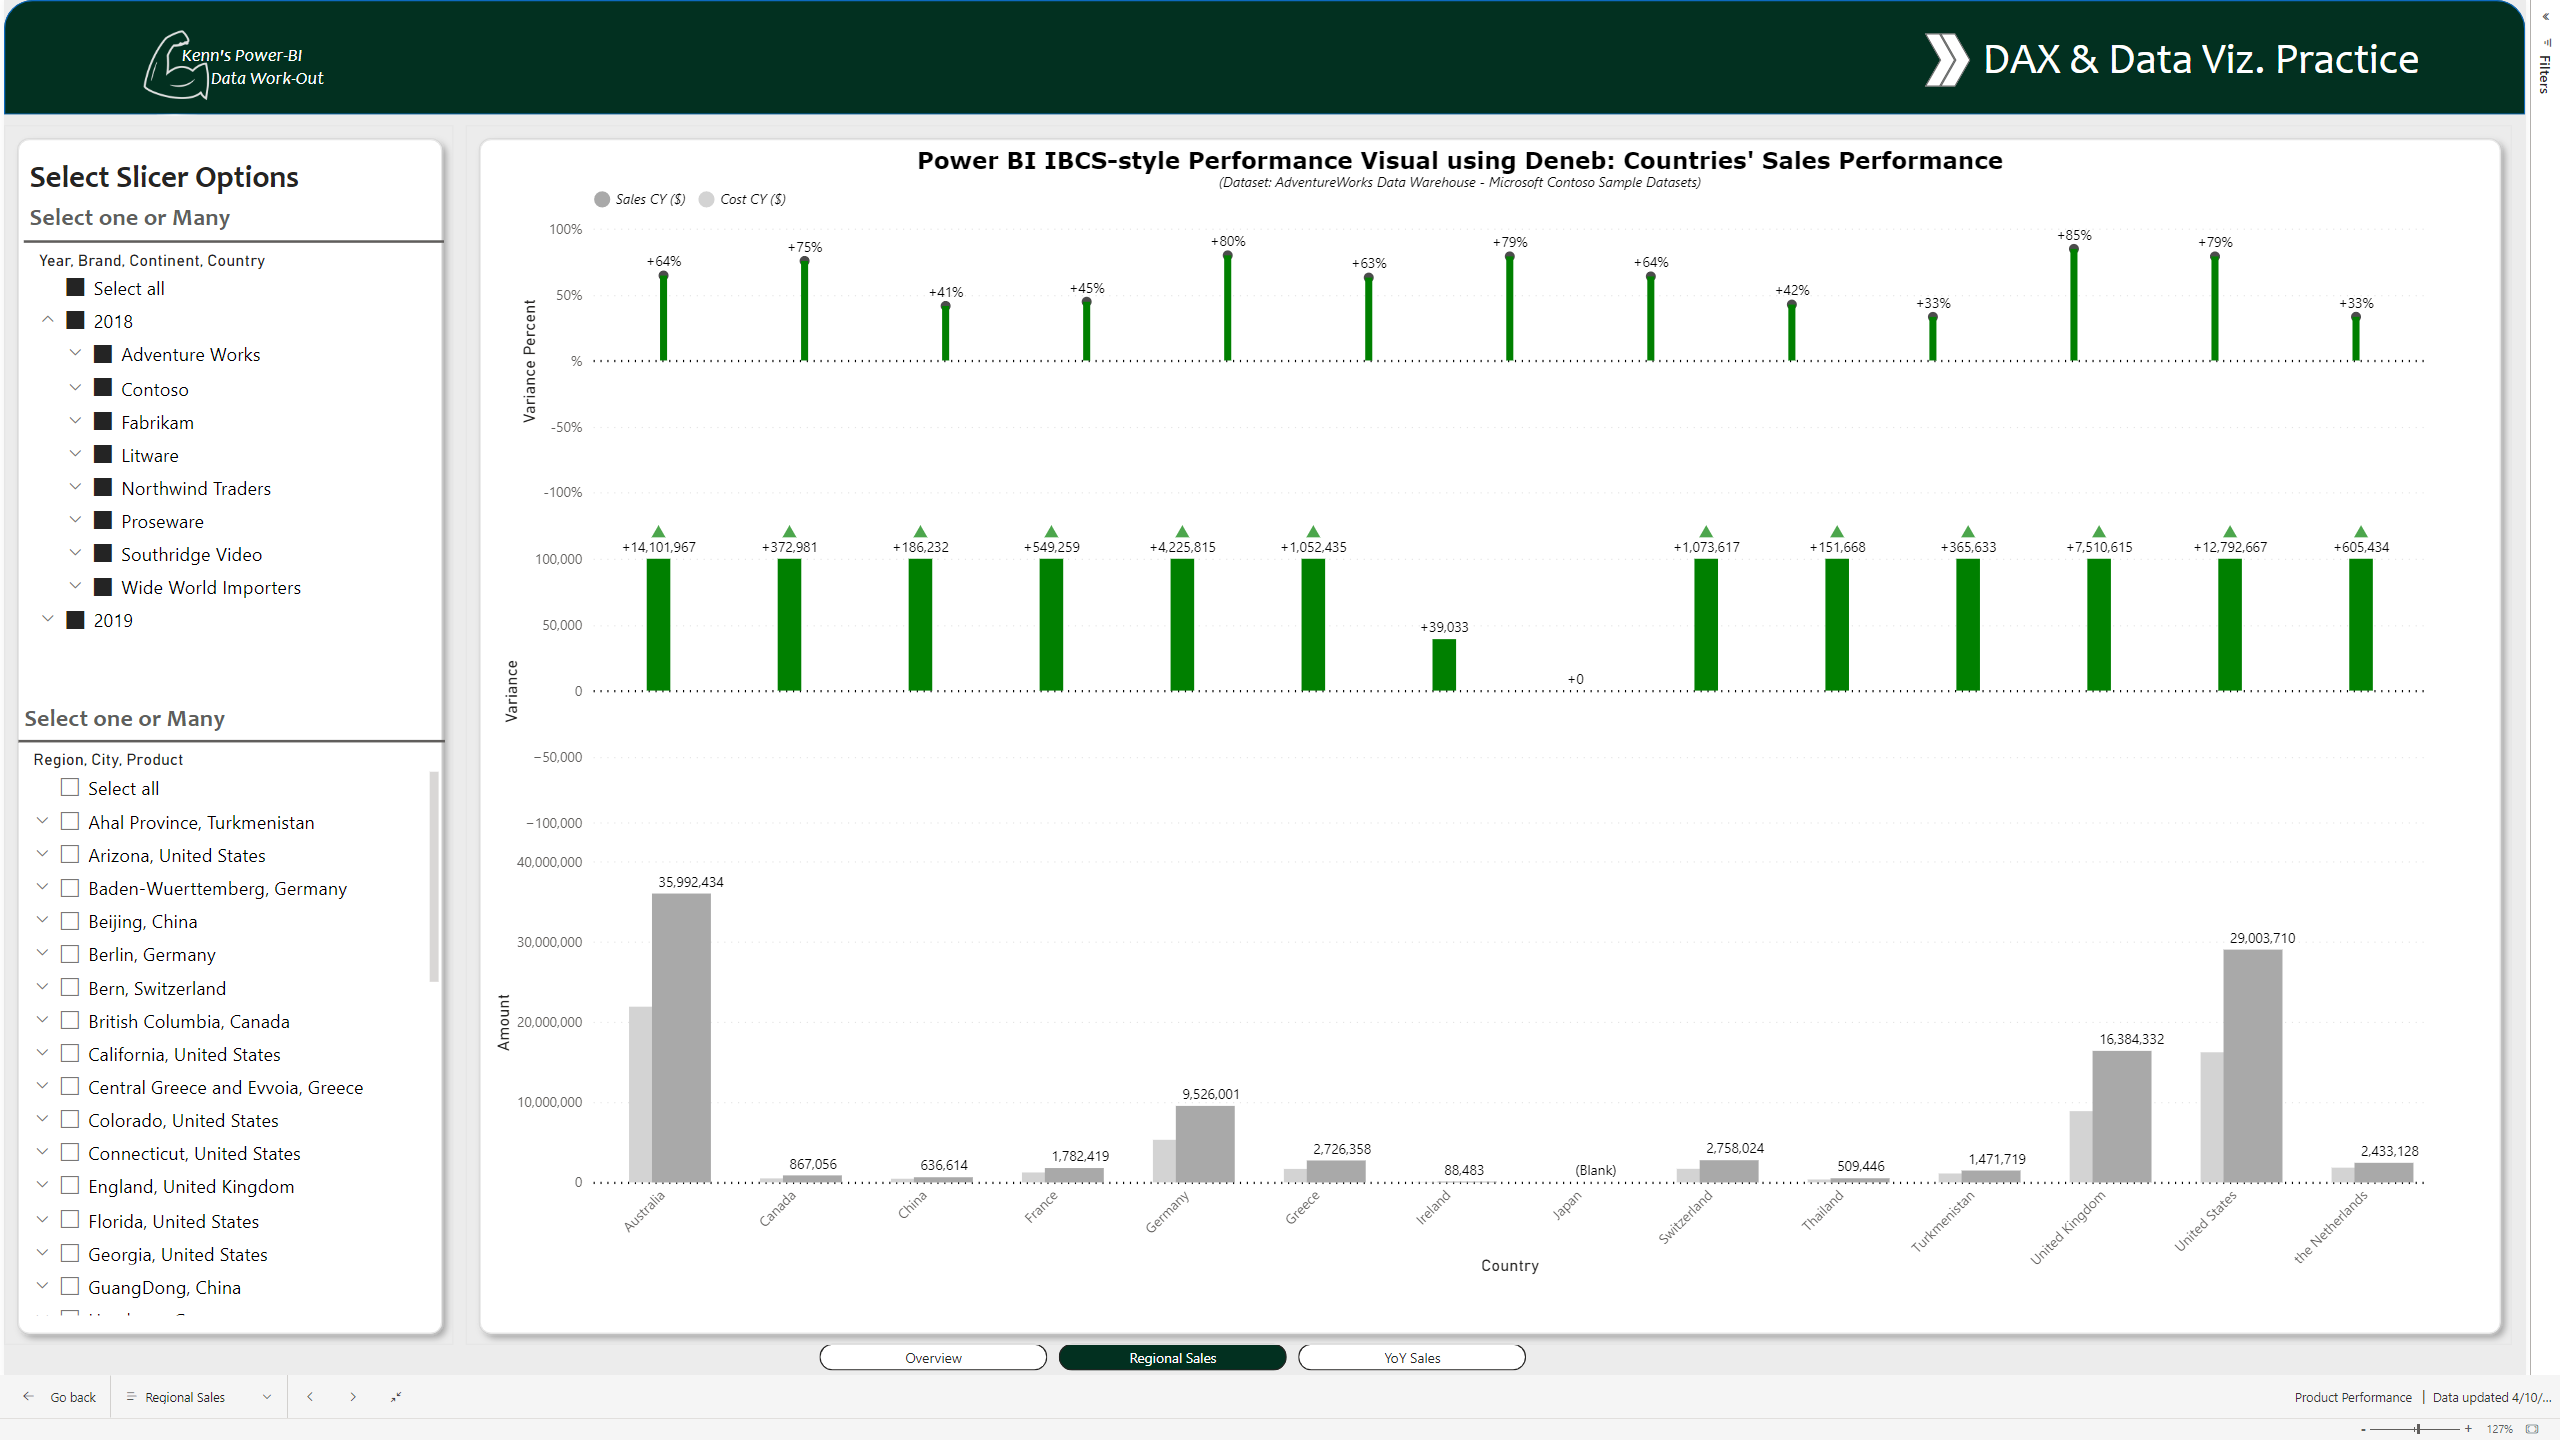

What the dashboard file says about the page in this screenshot:
{"tool":"powerbi","page":{"name":"Regional Sales","canvas":[2200,1200],"ordinal":1},"visuals":[{"type":"slicer","fields":{"Values":["Product Table.Product"]},"box":[11.2,18,489.3,84.4],"z":11000},{"type":"slicer","fields":{"Values":["Sales.Continent"]},"box":[11.2,163.4,371.2,84.4],"z":12000},{"type":"slicer","fields":{"Values":["Sales.City"]},"box":[11.2,308.7,371.2,84.4],"z":13000},{"type":"deneb7E15AEF80B9E4D4F8E12924291ECE89A","fields":{"dataset":["Sales.Country","Key Measures.Sales CY ($)","Key Measures.Cost CY ($)"]},"box":[475.8,20.2,1709.6,1163],"z":14001},{"type":"slicer","fields":{"Values":["Sales.Region"]},"box":[11.2,454.1,371.2,84.4],"z":14002},{"type":"slicer","fields":{"Values":["Date.Date.Variation.Date Hierarchy.Month"]},"box":[11.2,599.5,371.2,84.4],"z":14003},{"type":"pageNavigator","box":[722.1,1147.2,599.5,49.5],"z":14004}]}

Visuals, with their boxes on the page's 2200x1200 design canvas (x1, y1, x2, y2). These are canvas units, not pixel positions in the 2560x1440 screenshot, which may show the page scaled, cropped or inside an application window:
slicer - Product Table.Product: {"left": 11, "top": 18, "right": 500, "bottom": 102}
slicer - Sales.Continent: {"left": 11, "top": 163, "right": 382, "bottom": 248}
slicer - Sales.City: {"left": 11, "top": 309, "right": 382, "bottom": 393}
deneb7E15AEF80B9E4D4F8E12924291ECE89A - Sales.Country x Key Measures.Sales CY ($): {"left": 476, "top": 20, "right": 2185, "bottom": 1183}
slicer - Sales.Region: {"left": 11, "top": 454, "right": 382, "bottom": 538}
slicer - Date.Date.Variation.Date Hierarchy.Month: {"left": 11, "top": 600, "right": 382, "bottom": 684}
pageNavigator: {"left": 722, "top": 1147, "right": 1322, "bottom": 1197}
